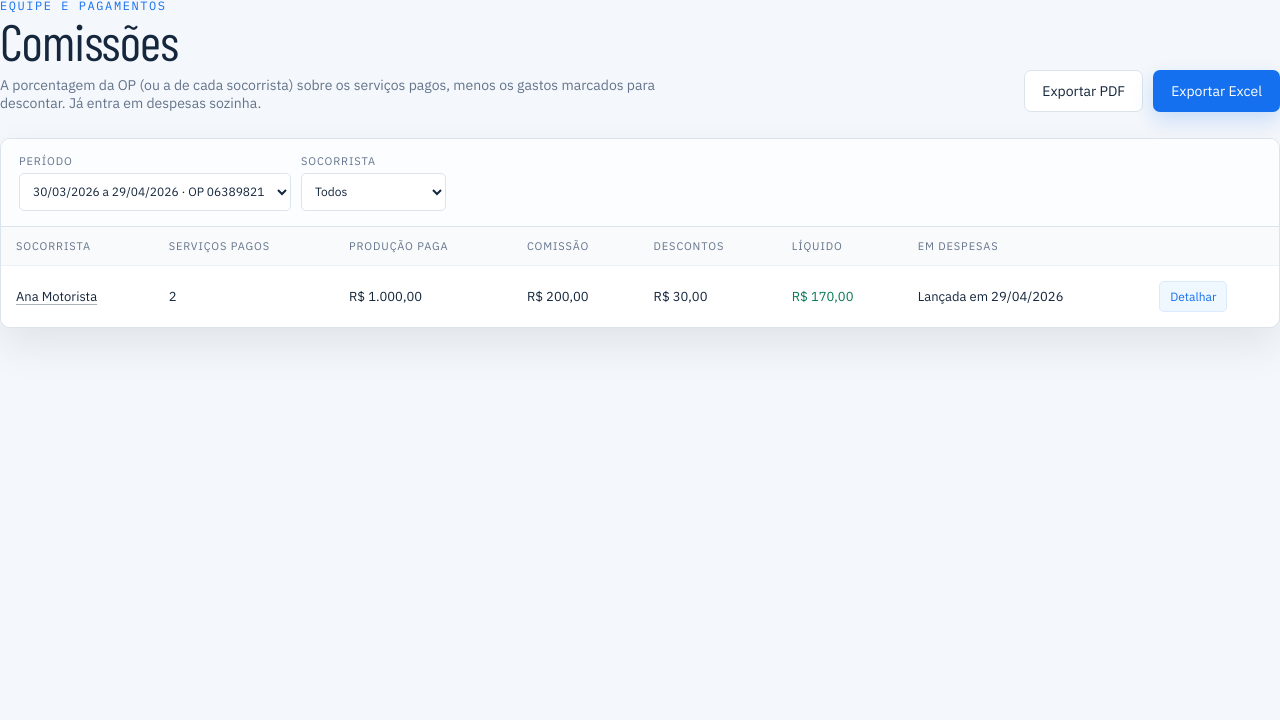
Test case: comissão já lançada em despesas, sem botão de pagar
Expected: the text "Lançada em 29/04/2026" is shown, [903,265,1144,327]
Step 1. Click the button "Detalhar" → coordinates (1193, 296), box [1159,281,1227,312]
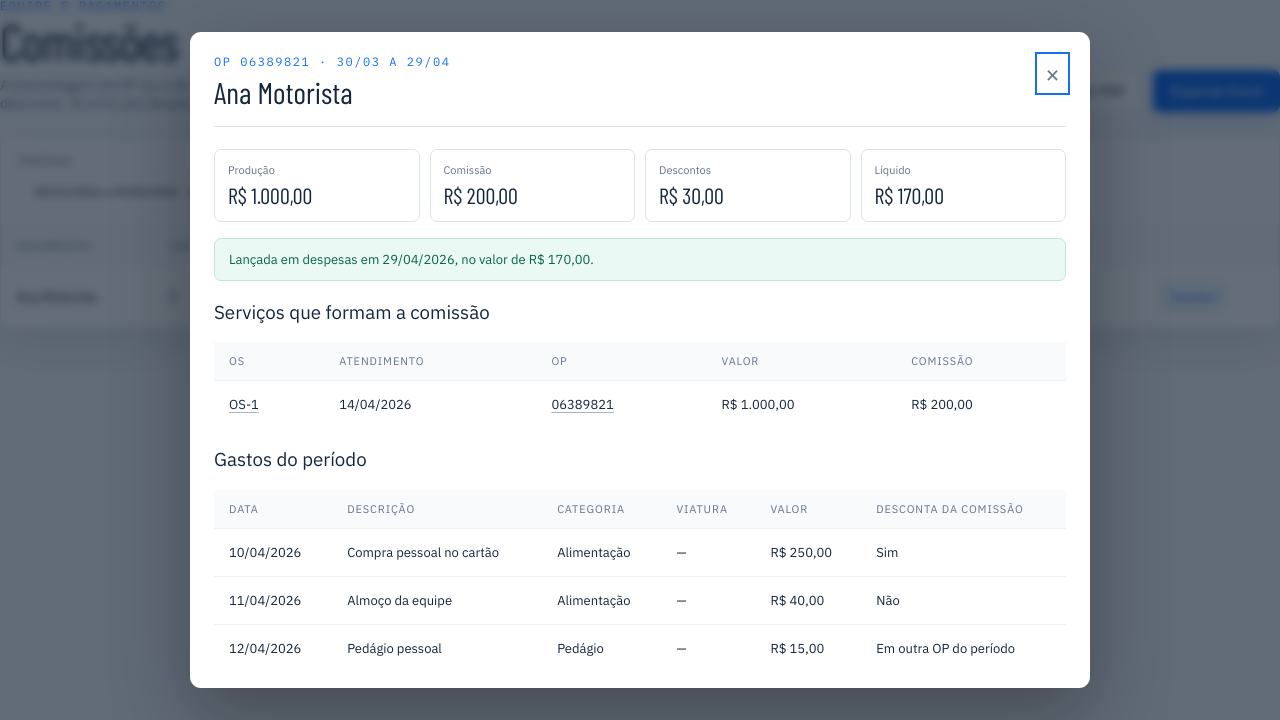
Expected: the dialog shows "Lançada em despesas", [229,251,358,268]
